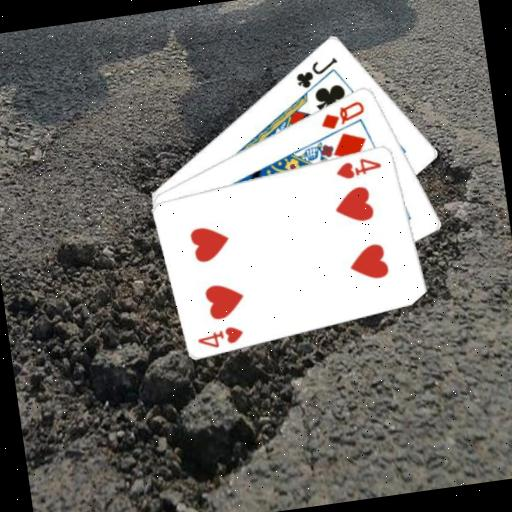4H: (194, 322, 247, 352), (332, 152, 384, 182)
JC: (291, 53, 343, 91)
QD: (315, 96, 369, 132)
